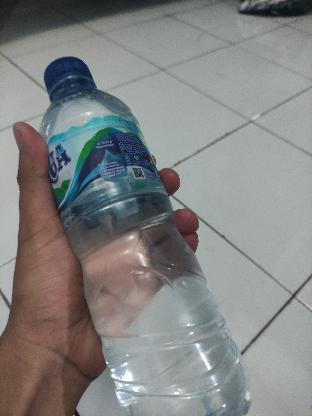Plastic Bottle: (38, 52, 254, 416)
